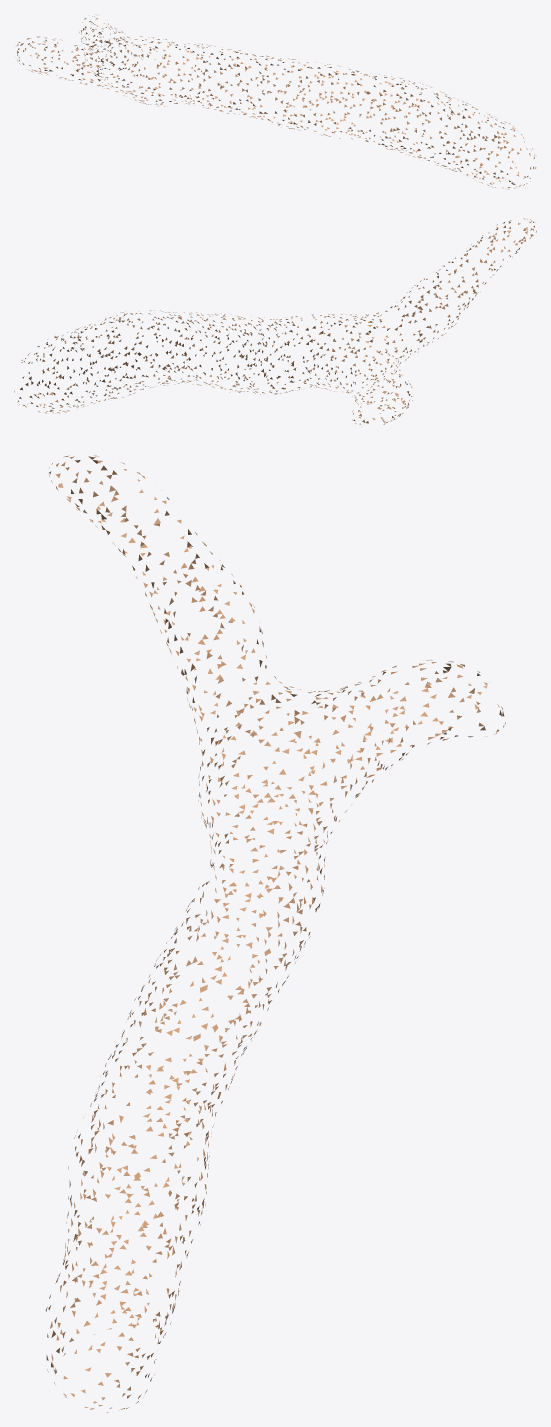
The model's file is morph_005.glb.
3 views of the same model, one above another, from view 1: azimuth 30°, elevation 25°; view 2: azimuth 150°, elevation 25°; view 3: azimuth 270°, elevation 25° (orthographic). The views are drawn at different scales.
Size of the model in its own units: 106 by 60.91 by 47.01.
